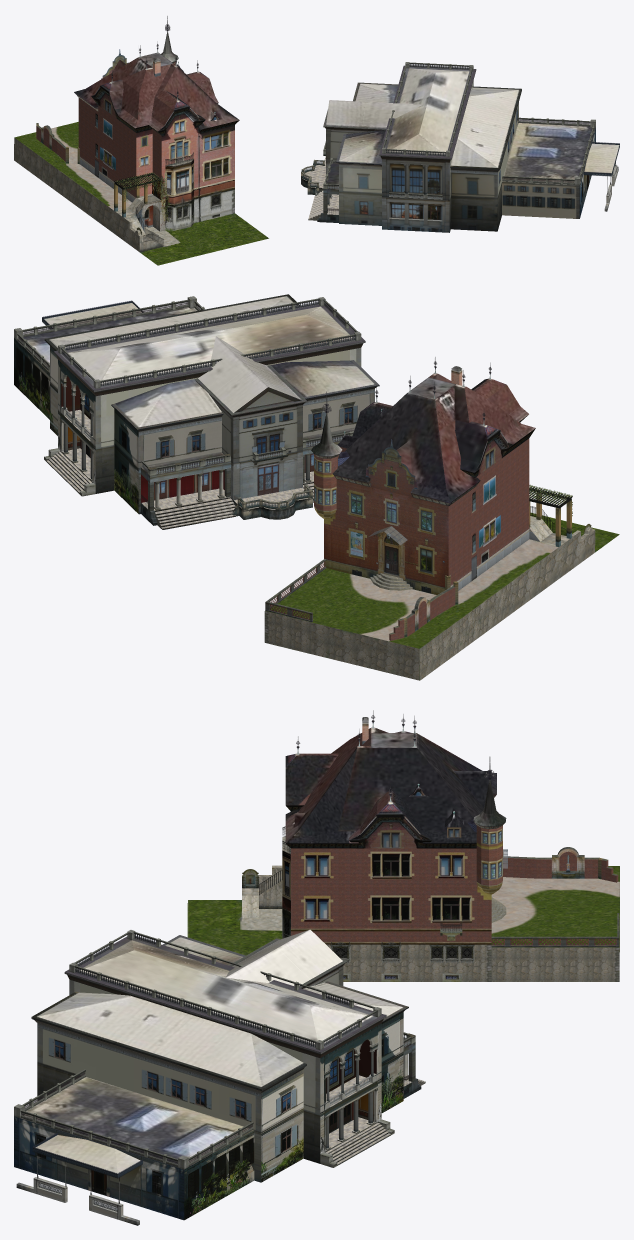
The model's file is european_buildings_asset_pack_4.glb.
The picture shows the model from 3 angles, top to bottom: view 1: azimuth 30°, elevation 25°; view 2: azimuth 150°, elevation 25°; view 3: azimuth 270°, elevation 25°; orthographic projection. The views are drawn at different scales.
Parts seen in each view (by area): view 1: BUILDING_1, Park Villa Rieter building_3, Park Villa Rieter PNG_2, PNG_0; view 2: Park Villa Rieter building_3, BUILDING_1, PNG_0, Park Villa Rieter PNG_2; view 3: BUILDING_1, Park Villa Rieter building_3, PNG_0, Park Villa Rieter PNG_2.
Boxes of the visible parts, x1=… form: BUILDING_1: x1=301, y1=62, x2=619, y2=232; Park Villa Rieter building_3: x1=14, y1=32, x2=268, y2=265; Park Villa Rieter PNG_2: x1=111, y1=16, x2=215, y2=245; PNG_0: x1=302, y1=63, x2=619, y2=214; Park Villa Rieter building_3: x1=264, y1=366, x2=619, y2=680; BUILDING_1: x1=14, y1=294, x2=379, y2=529; PNG_0: x1=18, y1=300, x2=355, y2=508; Park Villa Rieter PNG_2: x1=270, y1=357, x2=591, y2=619; BUILDING_1: x1=14, y1=929, x2=425, y2=1225; Park Villa Rieter building_3: x1=187, y1=717, x2=619, y2=981; PNG_0: x1=21, y1=934, x2=412, y2=1211; Park Villa Rieter PNG_2: x1=242, y1=710, x2=616, y2=945.
Size of the model in its own units: 48.21 by 15.64 by 37.82.
4 materials, 4 textured.
